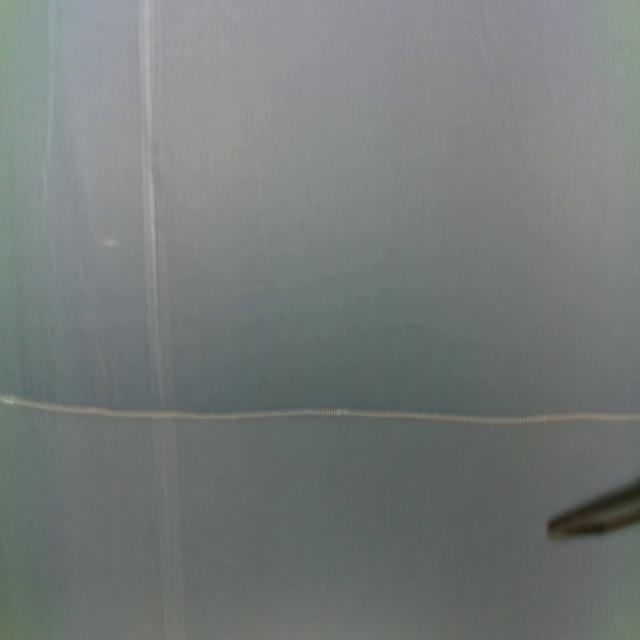crease: (138, 0, 188, 640), (41, 0, 59, 178)
